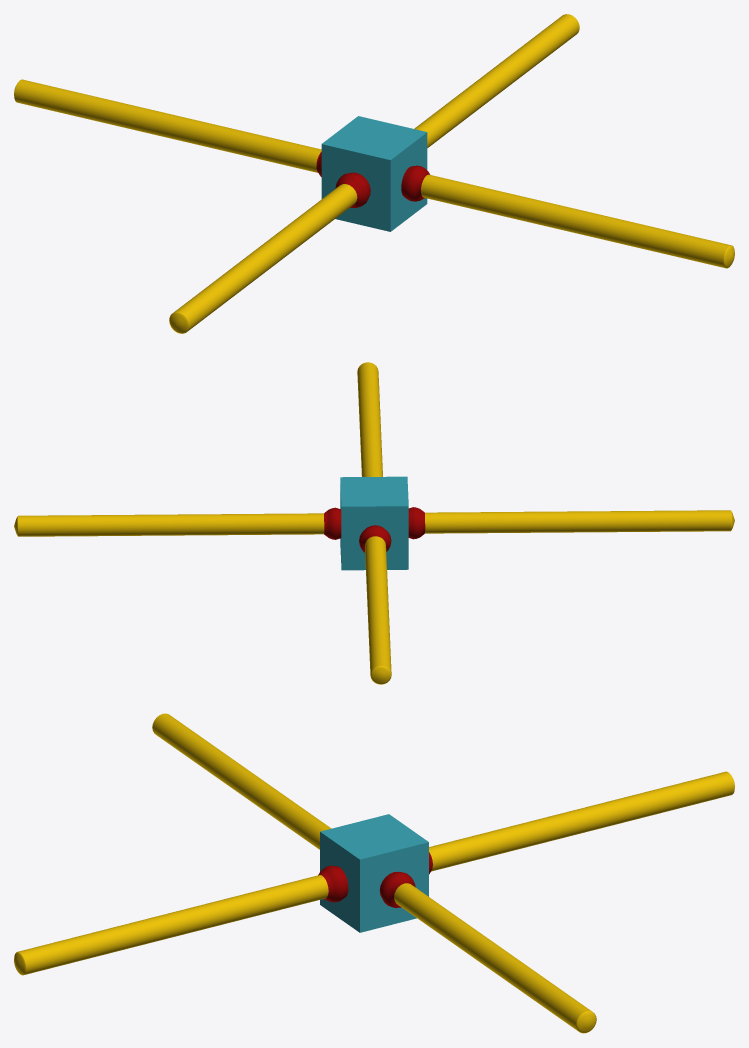
The model's file is obstacle02.fbx.
The picture shows the model from 3 angles, top to bottom: view 1: azimuth 30°, elevation 25°; view 2: azimuth 150°, elevation 25°; view 3: azimuth 270°, elevation 25°; orthographic projection. The views are drawn at different scales.
Visible parts, largest first — view 1: obstacle02; view 2: obstacle02; view 3: obstacle02.
Part boxes in pixels (x1=…): obstacle02: x1=14, y1=14, x2=734, y2=333; obstacle02: x1=14, y1=362, x2=734, y2=684; obstacle02: x1=14, y1=713, x2=734, y2=1033.
Bounding box in the file's own units: 1773 × 200 × 1785.
